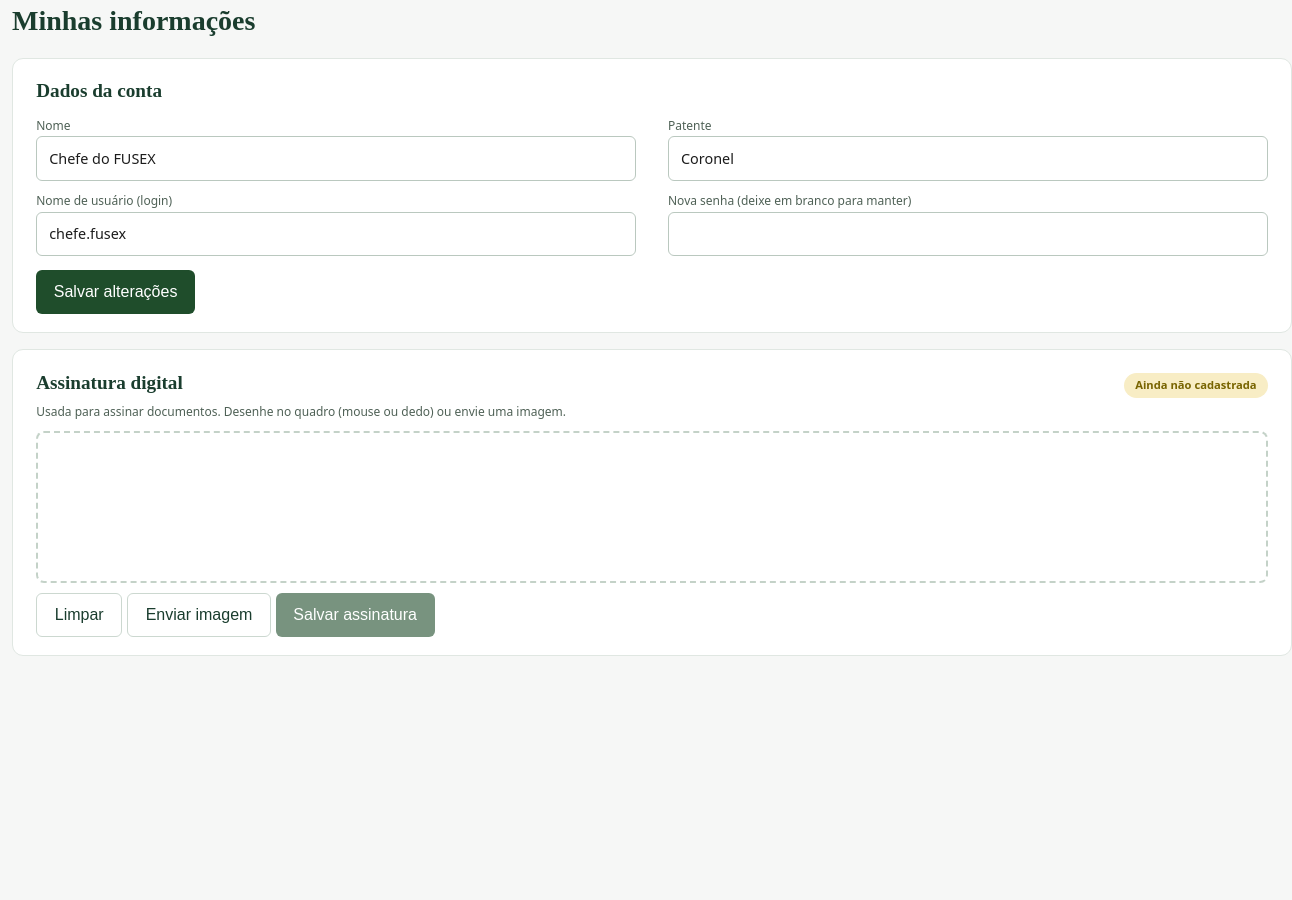
Test: Minhas informações do chefe › nova senha com menos de 8 caracteres mostra erro no campo
Type "curta" into the password field labelled "Nova senha (deixe em branco para manter)". click: (968, 234)
box: [668, 212, 1268, 256]
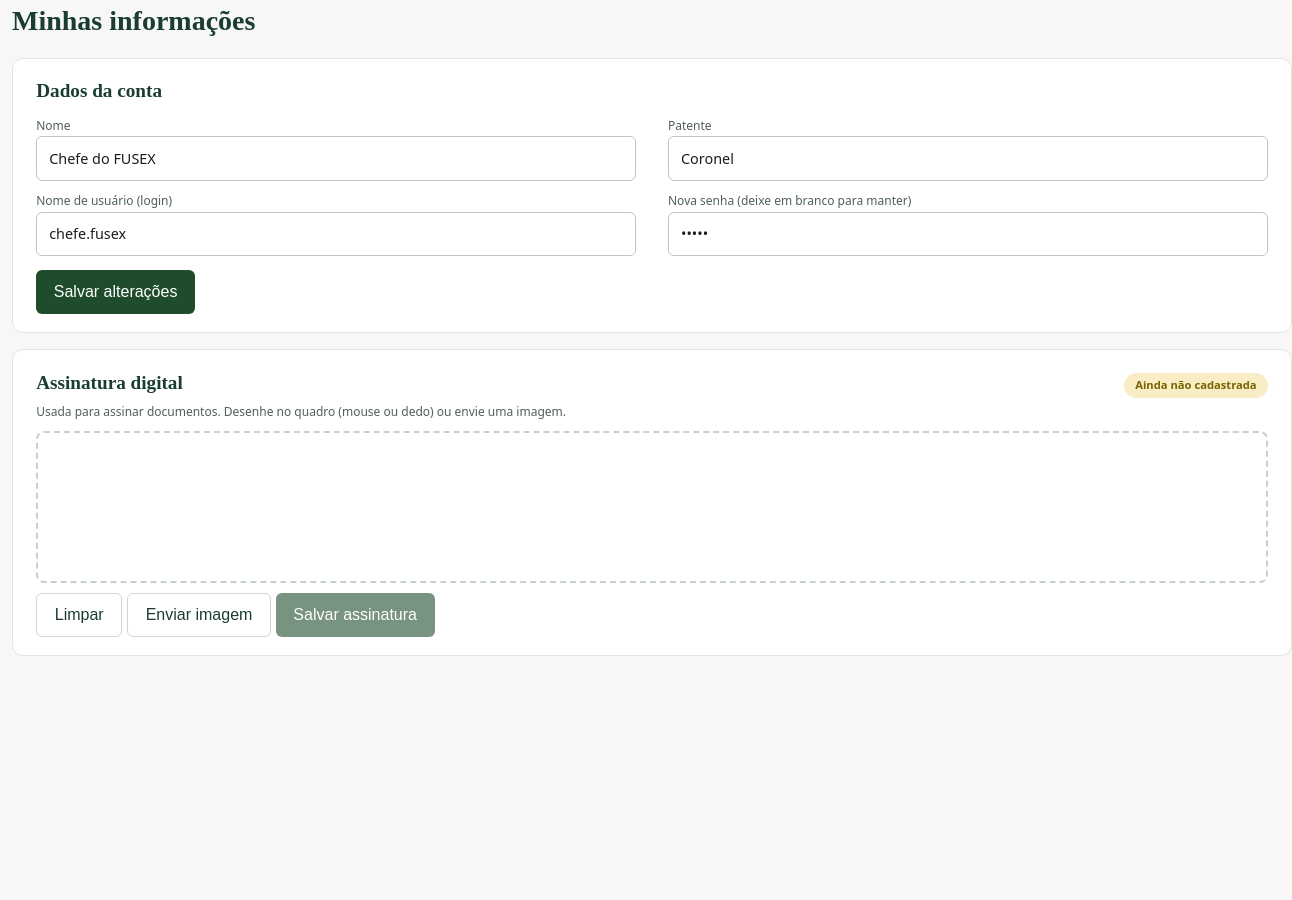
Click the button "Salvar alterações". click: (116, 292)
box: [36, 270, 195, 314]
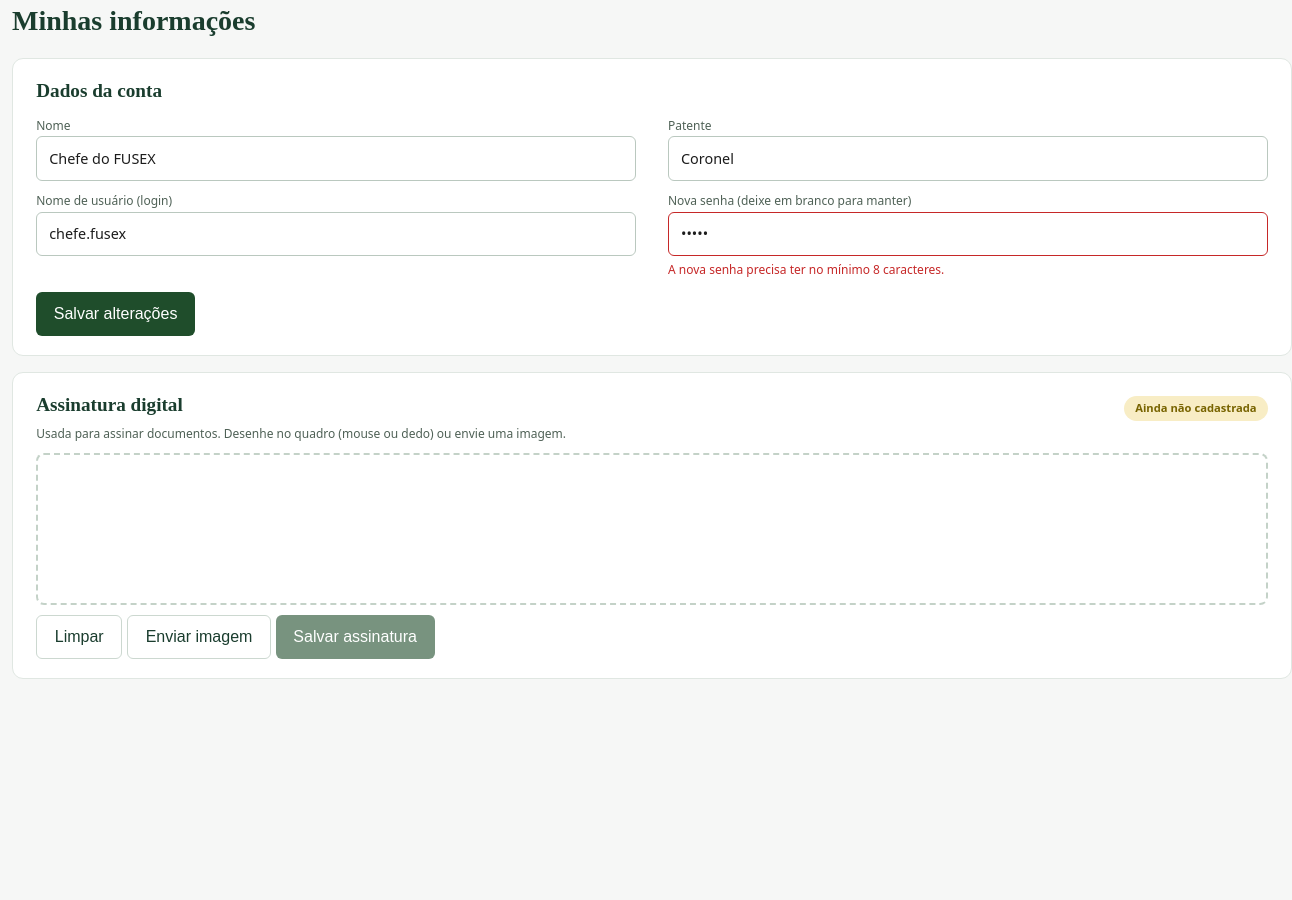
Result: the text "A nova senha precisa ter no mínimo 8 caracteres." is shown at [668, 261, 944, 278]
